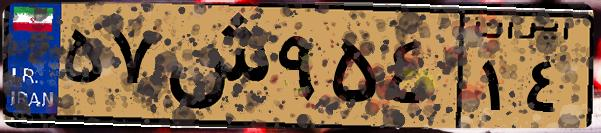1: (475, 38, 525, 113)
4: (385, 28, 445, 110), (525, 38, 570, 115)
5: (330, 28, 385, 110), (57, 26, 110, 100)
7: (110, 28, 158, 98)
9: (270, 28, 330, 110)
ش: (158, 12, 270, 120)
